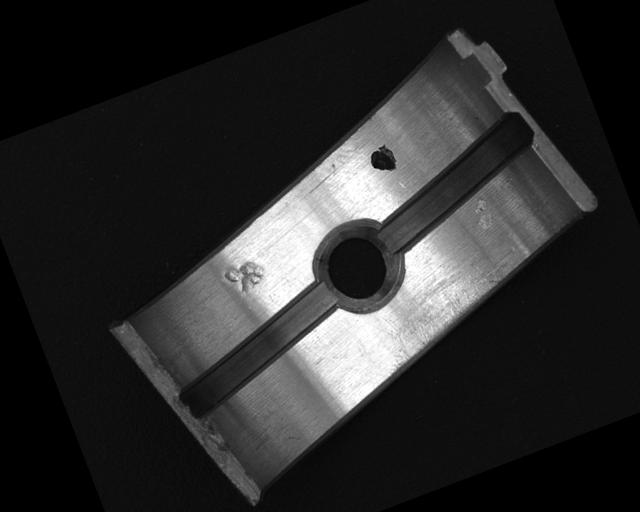blot: (365, 141, 400, 177)
bruise: (220, 253, 270, 299), (468, 195, 497, 234)
gap: (354, 107, 554, 255), (158, 277, 358, 422)
hole: (303, 209, 416, 323)
scratch: (362, 253, 529, 376)
